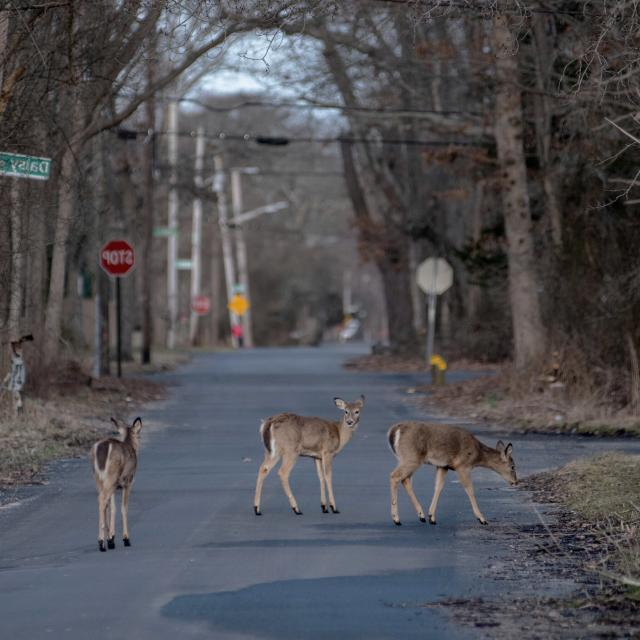deer: (388, 421, 517, 525), (254, 395, 365, 515), (90, 417, 142, 551)
